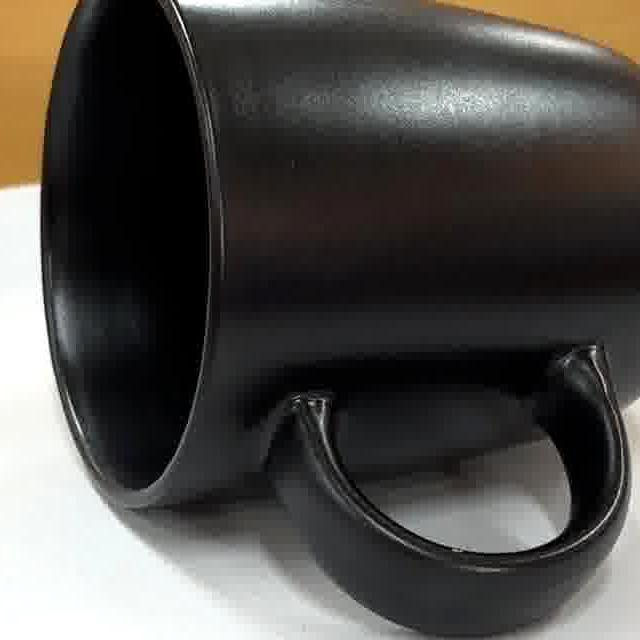cup: (41, 0, 640, 639)
